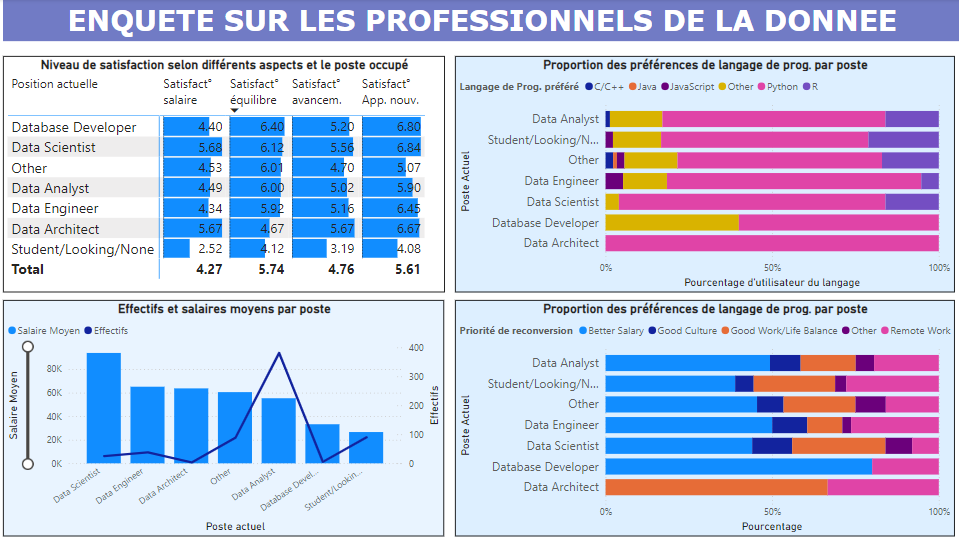

The dashboard page shown, as its layout file describes it:
{"tool":"powerbi","page":{"name":"Principaux résultats","canvas":[1280,720],"ordinal":1},"visuals":[{"type":"hundredPercentStackedBarChart","title":"Proportion des préférences de langage de prog. par poste","fields":{"Category":["Data Professional Survey.Q1 - Position Actuel"],"Y":["CountNonNull(Data Professional Survey.Q5 - Langage de Programmation préféré)"],"Series":["Data Professional Survey.Q5 - Langage de Programmation préféré"]},"box":[607.5,75.5,663.7,314.3],"z":0},{"type":"pivotTable","title":"Niveau de satisfaction selon différents aspects et le poste occupé","fields":{"Rows":["Data Professional Survey.Q1 - Position Actuel"],"Values":["Avg(Data Professional Survey.Q6A - A quel point Etes vous satisfait de votre salaire?)","Avg(Data Professional Survey.Q6B - A quel point Etes vous satisfait de votre équilibre viepriéé/vie professionnel?)","Avg(Data Professional Survey.Q6E - A quel point Etes vous satisfait de votre avancement?)","Avg(Data Professional Survey.Q6F - A quel point Etes vous satisfait du fait d'apprendre de nouvelles choses?)"]},"box":[6.6,75.3,586.9,314.5],"z":1000},{"type":"hundredPercentStackedBarChart","title":"Proportion des préférences de langage de prog. par poste","fields":{"Category":["Data Professional Survey.Q1 - Position Actuel"],"Y":["CountNonNull(Data Professional Survey.Q8 - Si vous recherchiez un nouvel position, quel serait votre priorité?)"],"Series":["Data Professional Survey.Q8 - Si vous recherchiez un nouvel position, quel serait votre priorité?"]},"box":[607.5,400.3,663.7,314.3],"z":2000},{"type":"lineClusteredColumnComboChart","title":"Effectifs et salaires moyens par poste","fields":{"Category":["Data Professional Survey.Q1 - Position Actuel"],"Y2":["CountNonNull(Data Professional Survey.Salaire Moyen)"],"Y":["Avg(Data Professional Survey.Salaire Moyen)"]},"box":[7,400.3,586.4,314.3],"z":3000},{"type":"textbox","box":[7,0,1273,56.2],"z":4000}]}

Visuals, with their boxes in screenshot pixels (x1, y1, x2, y2), scaled from the page's 1280x720 canvas onto the 959x538 screenshot:
"Proportion des préférences de langage de prog. par poste" hundredPercentStackedBarChart: box(455, 56, 952, 291)
"Niveau de satisfaction selon différents aspects et le poste occupé" pivotTable: box(5, 56, 445, 291)
"Proportion des préférences de langage de prog. par poste" hundredPercentStackedBarChart: box(455, 299, 952, 534)
"Effectifs et salaires moyens par poste" lineClusteredColumnComboChart: box(5, 299, 445, 534)
textbox: box(5, 0, 958, 42)
